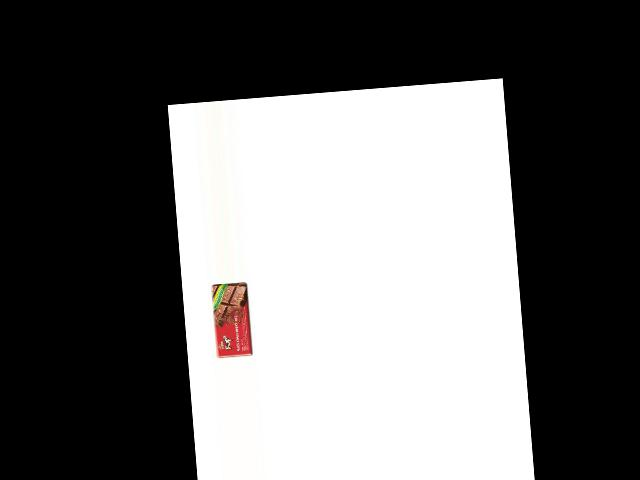chocolate: (210, 281, 254, 359)
